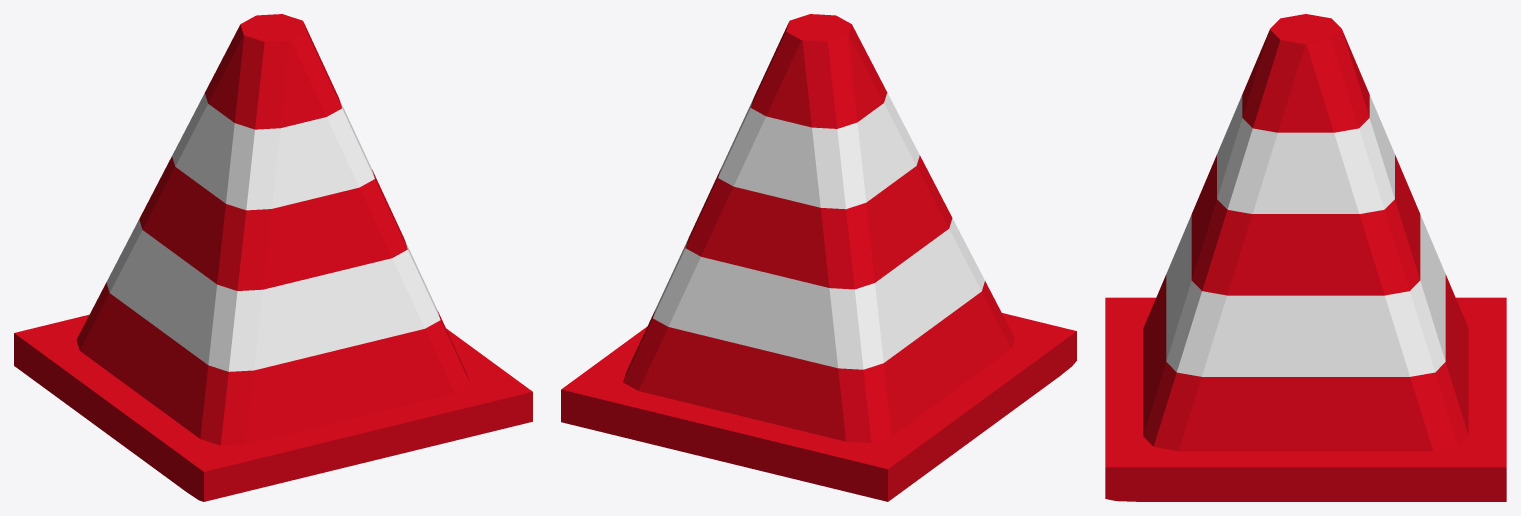
The model's file is traffecone.fbx.
3 views of the same model, side by side, from view 1: azimuth 30°, elevation 25°; view 2: azimuth 150°, elevation 25°; view 3: azimuth 270°, elevation 25° (orthographic). The views are drawn at different scales.
Visible parts, largest first — view 1: Cube; view 2: Cube; view 3: Cube.
Boxes of the visible parts, box(x1,y1,x2,y2) form: Cube: box(14, 14, 532, 501); Cube: box(561, 14, 1076, 501); Cube: box(1105, 14, 1506, 501).
Size of the model in its own units: 200 by 213 by 200.
